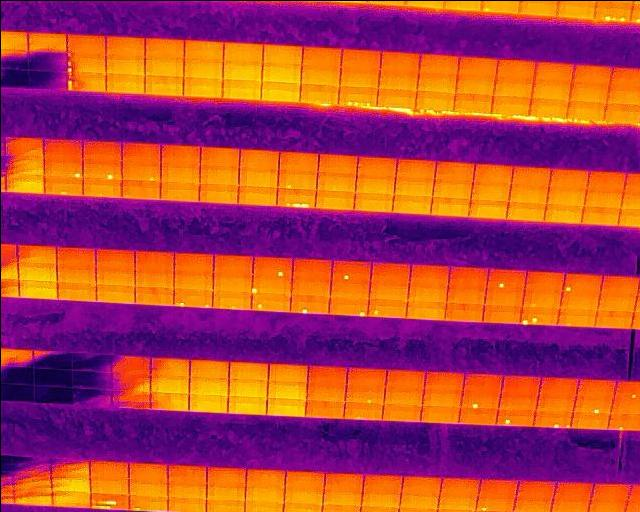Cell: (253, 257, 292, 277), (332, 261, 371, 281), (487, 269, 525, 289), (212, 290, 251, 309), (564, 272, 602, 291), (250, 293, 290, 311), (277, 170, 316, 188), (328, 297, 367, 315), (367, 299, 406, 317), (44, 177, 82, 195), (291, 295, 329, 313), (121, 163, 160, 180), (44, 159, 82, 176), (496, 409, 533, 426), (461, 391, 500, 407), (345, 386, 384, 402), (82, 163, 121, 179), (573, 397, 611, 413), (251, 277, 291, 292), (475, 497, 516, 511), (129, 495, 167, 510)
Cell-Multi: (593, 0, 632, 21), (174, 287, 212, 307), (338, 86, 377, 105), (67, 72, 105, 90), (520, 307, 559, 324), (67, 55, 105, 72), (534, 410, 572, 427), (90, 493, 128, 509)
No-Anomaly: (173, 251, 212, 274), (43, 137, 82, 160), (586, 170, 626, 192), (134, 250, 172, 273), (95, 248, 134, 270), (121, 141, 160, 163), (371, 261, 410, 283), (341, 49, 380, 70), (549, 168, 588, 189), (434, 160, 473, 181), (161, 143, 200, 164), (82, 140, 121, 161), (183, 40, 223, 60), (439, 477, 479, 497), (391, 193, 431, 213), (238, 148, 278, 168), (448, 266, 488, 286), (6, 172, 44, 193), (105, 36, 144, 56), (302, 46, 341, 66), (301, 64, 340, 84), (380, 51, 419, 71), (213, 255, 252, 275), (292, 258, 331, 278), (354, 191, 393, 211), (430, 196, 469, 216), (198, 182, 237, 202), (473, 163, 512, 183), (206, 466, 245, 486), (279, 152, 318, 172), (318, 153, 357, 173), (200, 146, 239, 166), (89, 461, 128, 481), (409, 265, 448, 285), (56, 281, 95, 301), (95, 283, 134, 303), (18, 279, 57, 299), (555, 308, 596, 327), (593, 309, 634, 328), (395, 159, 436, 178), (599, 275, 640, 294), (262, 44, 302, 63), (222, 42, 262, 61), (418, 55, 458, 74), (458, 57, 496, 77), (467, 199, 507, 218), (505, 202, 545, 221), (559, 290, 599, 309), (516, 480, 556, 499), (479, 478, 517, 498), (188, 393, 227, 412), (346, 367, 385, 386), (27, 33, 66, 52), (307, 365, 346, 384), (145, 38, 184, 57), (227, 395, 266, 414), (150, 357, 189, 376), (190, 359, 229, 378), (229, 360, 268, 379), (495, 60, 534, 79), (534, 62, 573, 81), (261, 81, 300, 100), (56, 247, 95, 266), (324, 473, 363, 492), (543, 204, 582, 223), (237, 185, 276, 204), (238, 167, 277, 186), (159, 181, 198, 200), (299, 83, 338, 102), (199, 165, 238, 184), (245, 468, 284, 487), (167, 464, 206, 483), (183, 76, 222, 95), (406, 300, 445, 319), (591, 482, 630, 501), (522, 288, 561, 307), (525, 270, 564, 289), (540, 377, 577, 397), (399, 476, 440, 494), (393, 177, 434, 195), (150, 392, 188, 411), (577, 379, 615, 398), (67, 35, 105, 54), (529, 96, 567, 115), (135, 286, 173, 305), (292, 276, 330, 295), (378, 71, 418, 89), (261, 63, 301, 81), (355, 175, 395, 193), (356, 157, 396, 175), (492, 79, 532, 97), (502, 375, 539, 394), (267, 380, 306, 398), (385, 369, 424, 387), (266, 398, 305, 416), (268, 363, 307, 381), (223, 61, 262, 79), (556, 0, 595, 18), (363, 474, 402, 492), (569, 83, 608, 101), (511, 167, 550, 185), (580, 206, 619, 224), (315, 190, 354, 208), (285, 470, 324, 488), (121, 180, 160, 198), (160, 164, 199, 182), (128, 463, 167, 481), (222, 80, 261, 98), (531, 81, 570, 99), (105, 74, 144, 92), (444, 303, 483, 321), (96, 267, 135, 285), (56, 266, 95, 284), (553, 482, 592, 500), (431, 180, 472, 197), (463, 373, 501, 391), (424, 371, 462, 389), (305, 399, 343, 417), (573, 66, 611, 84), (145, 75, 183, 93), (482, 305, 520, 323), (134, 270, 172, 288), (447, 285, 485, 303), (212, 273, 250, 291), (339, 69, 379, 86), (508, 185, 548, 202), (583, 190, 623, 207), (470, 183, 510, 200), (316, 173, 356, 190), (416, 74, 456, 91), (483, 289, 523, 306), (407, 284, 447, 301), (329, 281, 369, 298), (18, 245, 55, 263), (567, 100, 604, 118), (189, 377, 228, 394), (306, 383, 345, 400), (228, 379, 267, 396), (150, 375, 189, 392), (51, 490, 90, 507), (105, 55, 144, 72), (144, 58, 183, 75), (183, 60, 222, 77), (547, 188, 586, 205), (377, 89, 416, 106), (415, 91, 454, 108), (491, 96, 530, 113), (173, 271, 212, 288), (382, 404, 420, 421), (421, 405, 459, 422), (83, 179, 121, 196), (454, 93, 492, 110), (457, 76, 495, 93), (18, 263, 56, 280), (369, 283, 407, 300), (361, 491, 401, 507), (322, 490, 362, 506), (597, 295, 637, 311), (423, 388, 460, 405), (459, 407, 496, 424), (384, 387, 423, 403), (284, 488, 323, 504), (167, 482, 206, 498), (128, 480, 167, 496), (344, 403, 382, 419), (571, 413, 609, 429), (499, 393, 536, 409), (206, 485, 245, 500), (244, 487, 283, 502), (167, 497, 206, 512), (50, 476, 89, 491), (437, 495, 478, 509), (90, 479, 128, 494), (537, 396, 574, 411), (400, 493, 437, 508)
Shadowing: (70, 368, 112, 390), (70, 350, 112, 371), (3, 135, 43, 157), (31, 382, 71, 403), (70, 386, 111, 406), (31, 366, 71, 386), (31, 349, 71, 368), (28, 69, 66, 89), (5, 156, 44, 175), (26, 52, 66, 70), (111, 391, 150, 409), (111, 373, 150, 391), (111, 355, 150, 373), (50, 459, 89, 477), (14, 489, 52, 505), (13, 476, 51, 490)
Unclassified: (277, 188, 316, 206)
